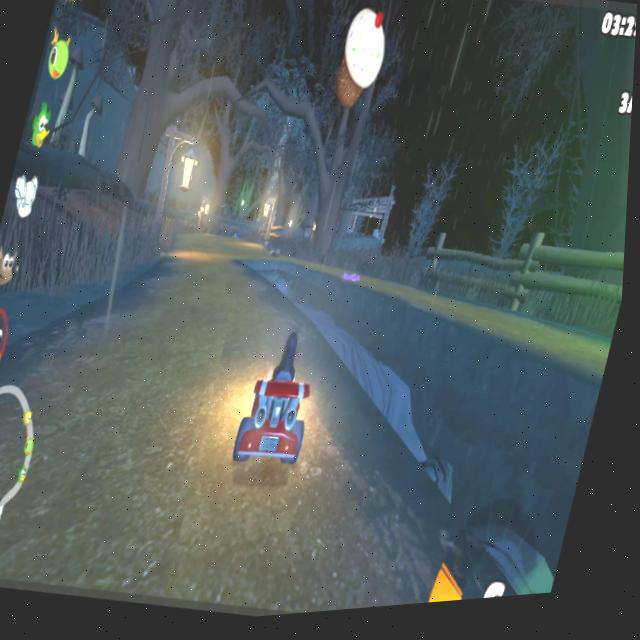obstacle: (342, 270, 372, 294)
player_kart: (225, 335, 335, 494)
track: (144, 262, 270, 361), (179, 231, 260, 268)
